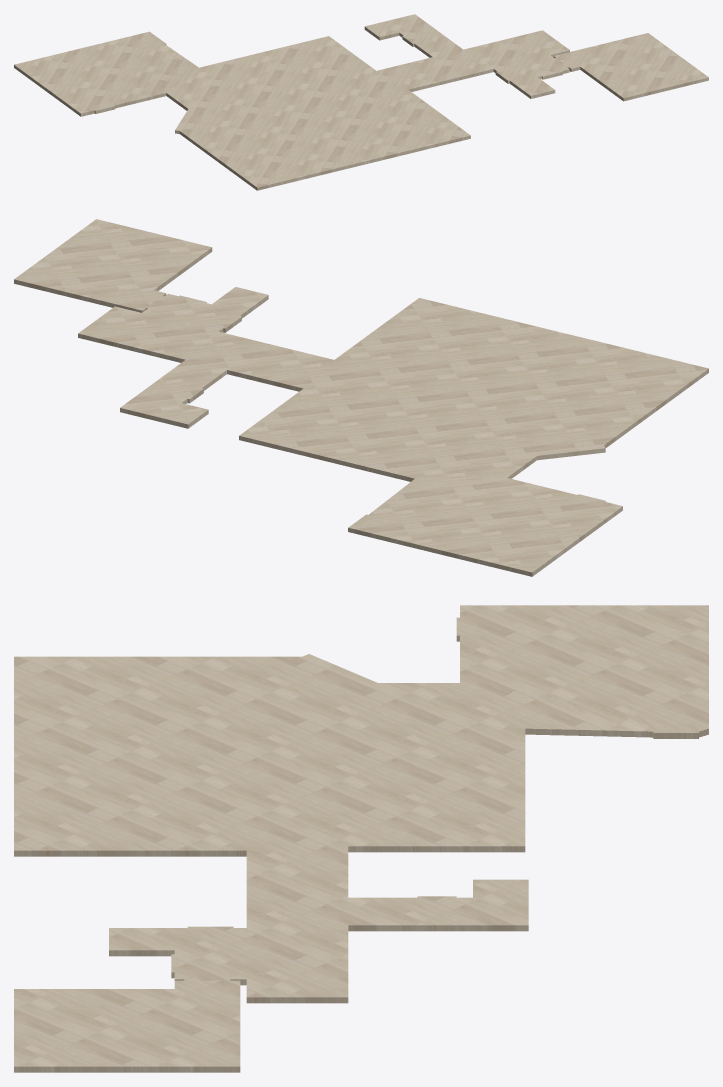
Rendered from Floor_LaytonLakeSilverDollar.glb.
The picture shows the model from 3 angles, top to bottom: view 1: azimuth 30°, elevation 25°; view 2: azimuth 150°, elevation 25°; view 3: azimuth 270°, elevation 25°; orthographic projection. The views are drawn at different scales.
Visible parts, largest first — view 1: Floors_Layton_lake_silver_dollar; view 2: Floors_Layton_lake_silver_dollar; view 3: Floors_Layton_lake_silver_dollar.
Boxes of the visible parts, x1,y1,x2,y2 form: Floors_Layton_lake_silver_dollar: (14,14,708,190); Floors_Layton_lake_silver_dollar: (14,219,708,576); Floors_Layton_lake_silver_dollar: (14,605,708,1072).
Bounding box in the file's own units: 33.3 × 0.3 × 21.2.
1 material, 1 textured.
